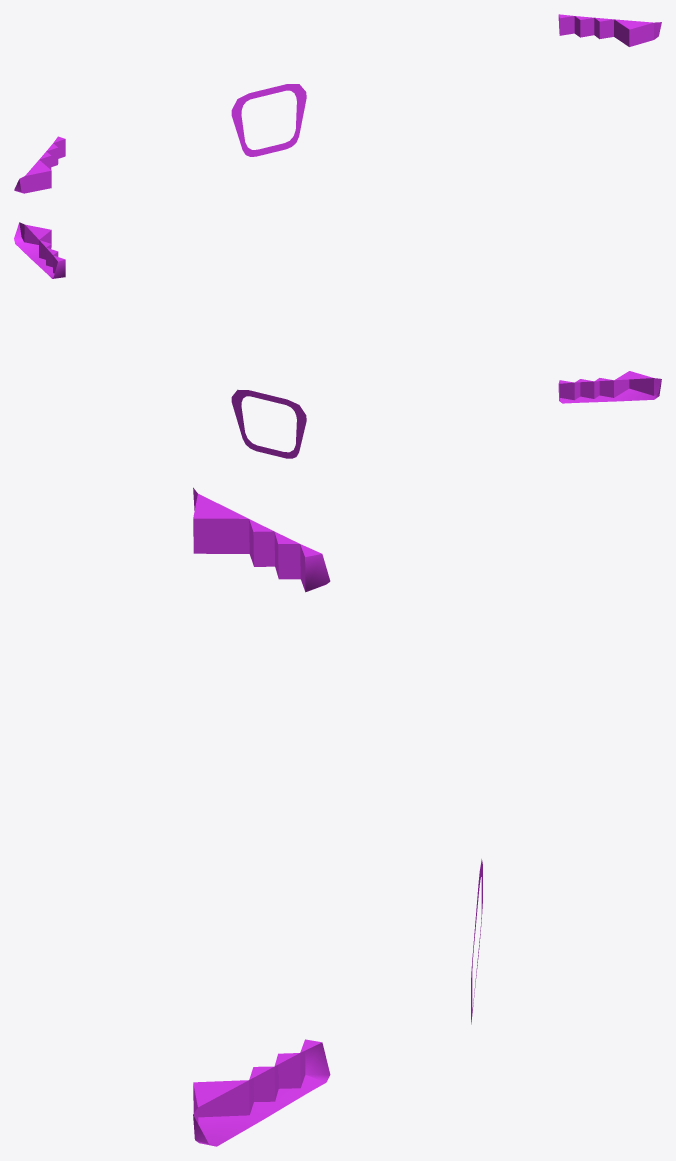
Rendered from Veyron_BB01_Detail.fbx.
The picture shows the model from 3 angles, top to bottom: view 1: azimuth 30°, elevation 25°; view 2: azimuth 150°, elevation 25°; view 3: azimuth 270°, elevation 25°; orthographic projection. The views are drawn at different scales.
Parts seen in each view (by area): view 1: Veyron_BB01_Detail; view 2: Veyron_BB01_Detail; view 3: Veyron_BB01_Detail.
Part boxes in pixels (box(x1,y1,x2,y2)): Veyron_BB01_Detail: box(14, 14, 661, 193); Veyron_BB01_Detail: box(14, 222, 661, 458); Veyron_BB01_Detail: box(193, 487, 482, 1146).
Size of the model in its own units: 192 by 29.76 by 37.29.
